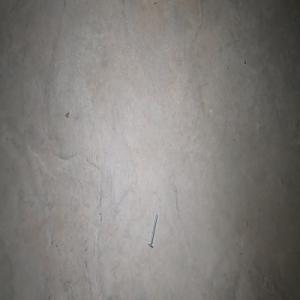Bolt: (148, 212, 157, 248)
